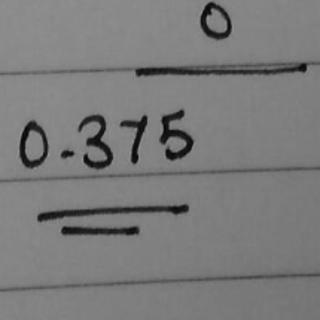.: (54, 141, 83, 164)
0: (197, 1, 240, 41), (17, 118, 47, 173)
3: (79, 111, 113, 172)
5: (157, 111, 196, 161)
7: (119, 114, 155, 165)
